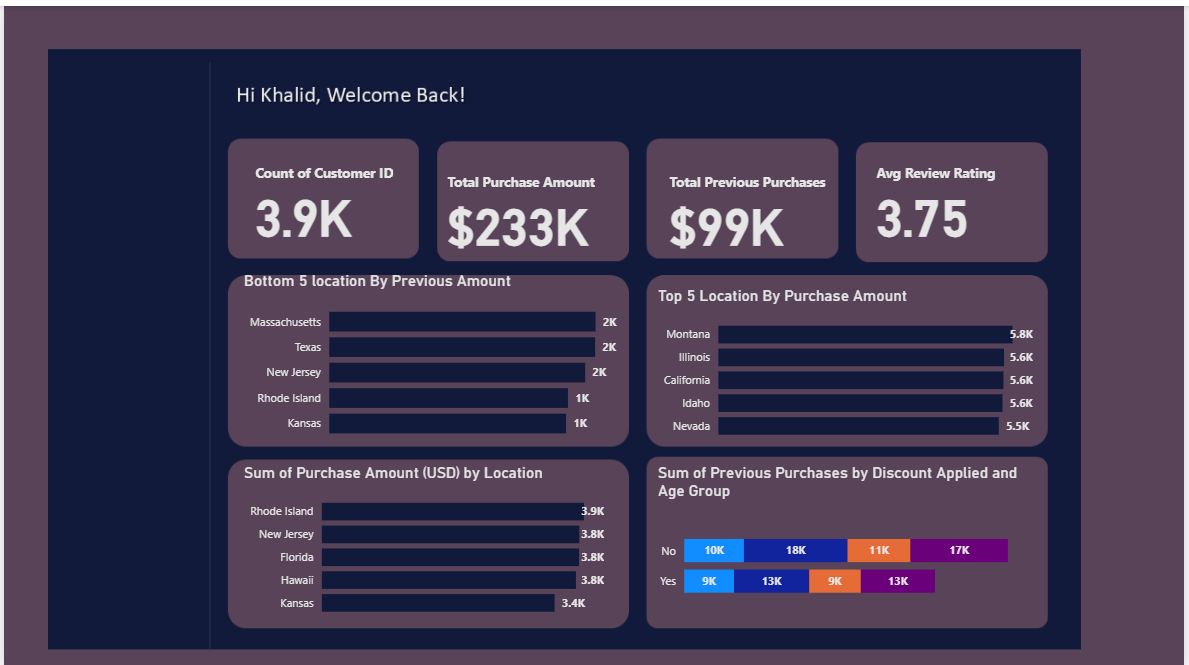

What the dashboard file says about the page in this screenshot:
{"tool":"powerbi","page":{"name":"Page 3","canvas":[1280,720],"ordinal":2},"visuals":[{"type":"cardVisual","fields":{"Data":["CountNonNull(shopping_behavior_updated.Customer ID)"]},"box":[256,160,192,112],"z":0},{"type":"cardVisual","fields":{"Data":["Avg(shopping_behavior_updated.Review Rating)"]},"box":[928,160,224,112],"z":1000},{"type":"cardVisual","fields":{"Data":["Sum(shopping_behavior_updated.Previous Purchases)"]},"box":[704,144,256,160],"z":2000},{"type":"cardVisual","fields":{"Data":["Sum(shopping_behavior_updated.Purchase Amount (USD))"]},"box":[464,144,304,160],"z":3000},{"type":"clusteredBarChart","title":"Top 5 Location By Purchase Amount","fields":{"Category":["shopping_behavior_updated.Location"],"Y":["Sum(shopping_behavior_updated.Purchase Amount (USD))"]},"box":[704,304,416,176],"z":4000},{"type":"barChart","title":"Bottom 5 location By Previous Amount","fields":{"Category":["shopping_behavior_updated.Location"],"Y":["Sum(shopping_behavior_updated.Previous Purchases)"]},"box":[256,288,416,192],"z":5000},{"type":"barChart","fields":{"Category":["shopping_behavior_updated.Location"],"Y":["Sum(shopping_behavior_updated.Purchase Amount (USD))"]},"box":[256,496,400,176],"z":6000},{"type":"barChart","fields":{"Category":["shopping_behavior_updated.Discount Applied"],"Y":["Sum(shopping_behavior_updated.Previous Purchases)"],"Series":["shopping_behavior_updated.Age Group"]},"box":[704,496,416,176],"z":7000}]}

Visuals, with their boxes in screenshot pixels (x1, y1, x2, y2), scaled from the page's 1280x720 canvas onto the 1189x665 screenshot:
cardVisual - CountNonNull(shopping_behavior_updated.Customer ID): <region>238, 148, 416, 251</region>
cardVisual - Avg(shopping_behavior_updated.Review Rating): <region>862, 148, 1070, 251</region>
cardVisual - Sum(shopping_behavior_updated.Previous Purchases): <region>654, 133, 892, 281</region>
cardVisual - Sum(shopping_behavior_updated.Purchase Amount (USD)): <region>431, 133, 713, 281</region>
"Top 5 Location By Purchase Amount" clusteredBarChart: <region>654, 281, 1040, 443</region>
"Bottom 5 location By Previous Amount" barChart: <region>238, 266, 624, 443</region>
barChart - shopping_behavior_updated.Location x Sum(shopping_behavior_updated.Purchase Amount (USD)): <region>238, 458, 609, 621</region>
barChart - shopping_behavior_updated.Discount Applied x Sum(shopping_behavior_updated.Previous Purchases): <region>654, 458, 1040, 621</region>
